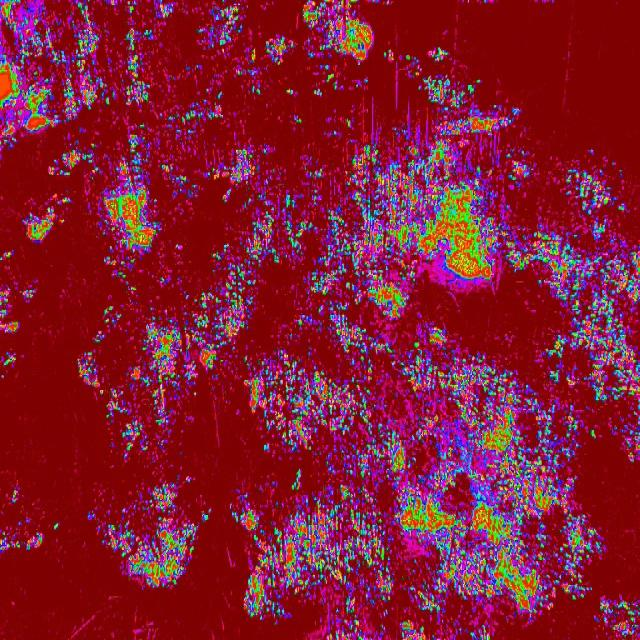fire: (241, 337, 599, 640), (192, 154, 446, 388), (0, 0, 387, 152), (306, 43, 526, 283), (76, 151, 192, 461), (542, 162, 640, 466), (93, 481, 219, 599), (2, 487, 52, 553), (18, 199, 72, 250), (599, 596, 640, 640), (0, 284, 22, 334), (46, 152, 76, 180), (18, 279, 37, 306), (0, 354, 18, 374), (0, 246, 14, 265)
